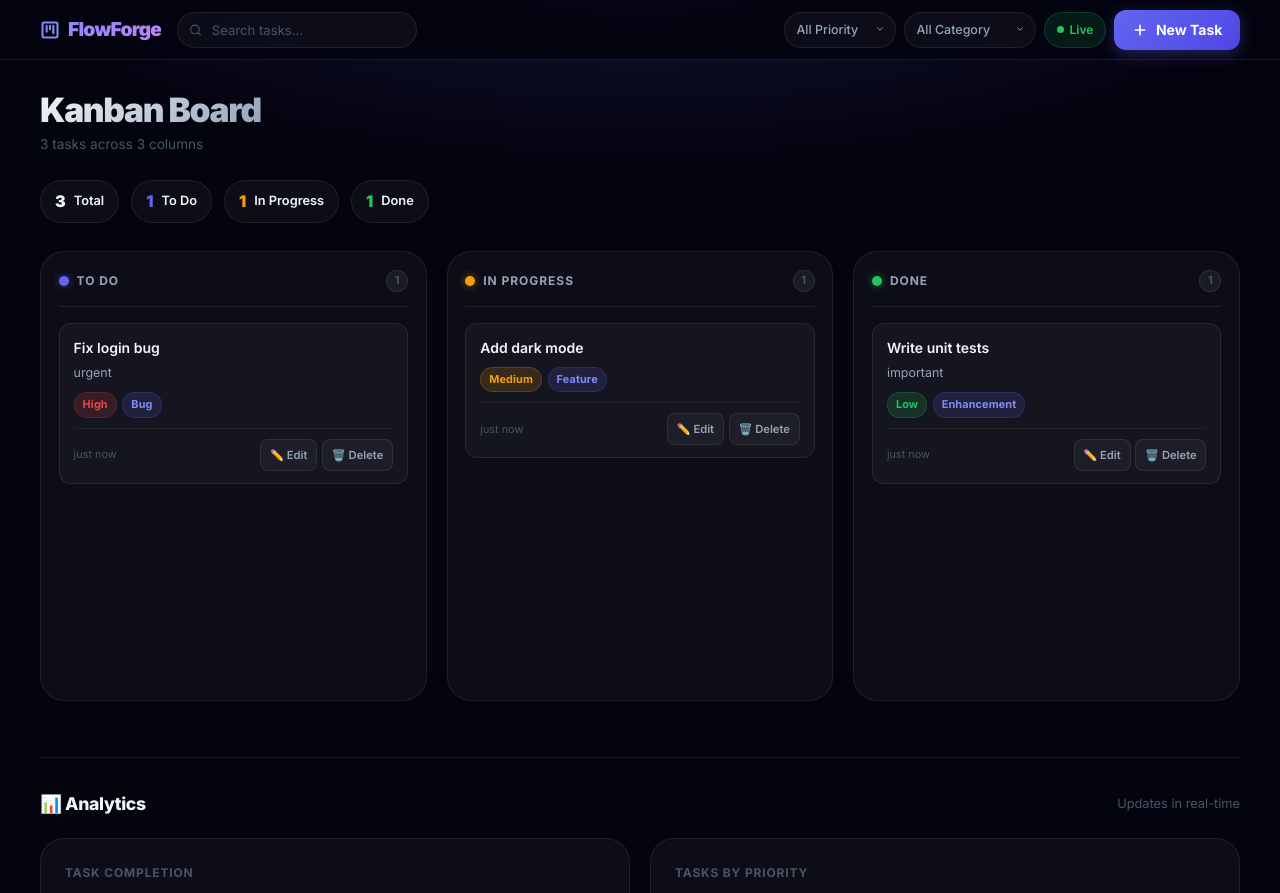
Test: KanbanBoard › closes modal when Cancel is clicked
Click the button with test id "new-task-btn" at (1177, 30), box x1=1114 y1=10 x2=1240 y2=50
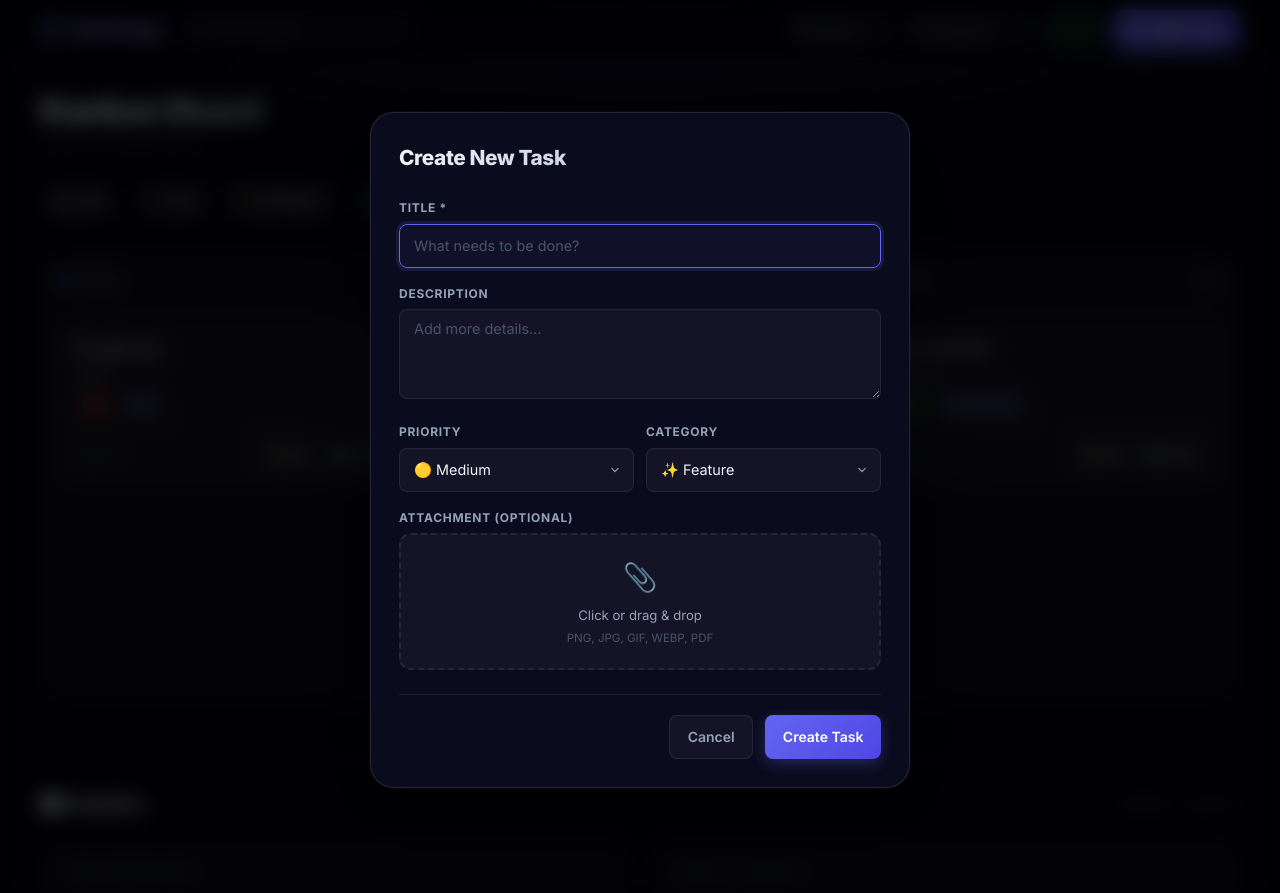
Click the button with test id "cancel-btn" at (711, 737), box x1=669 y1=715 x2=753 y2=759
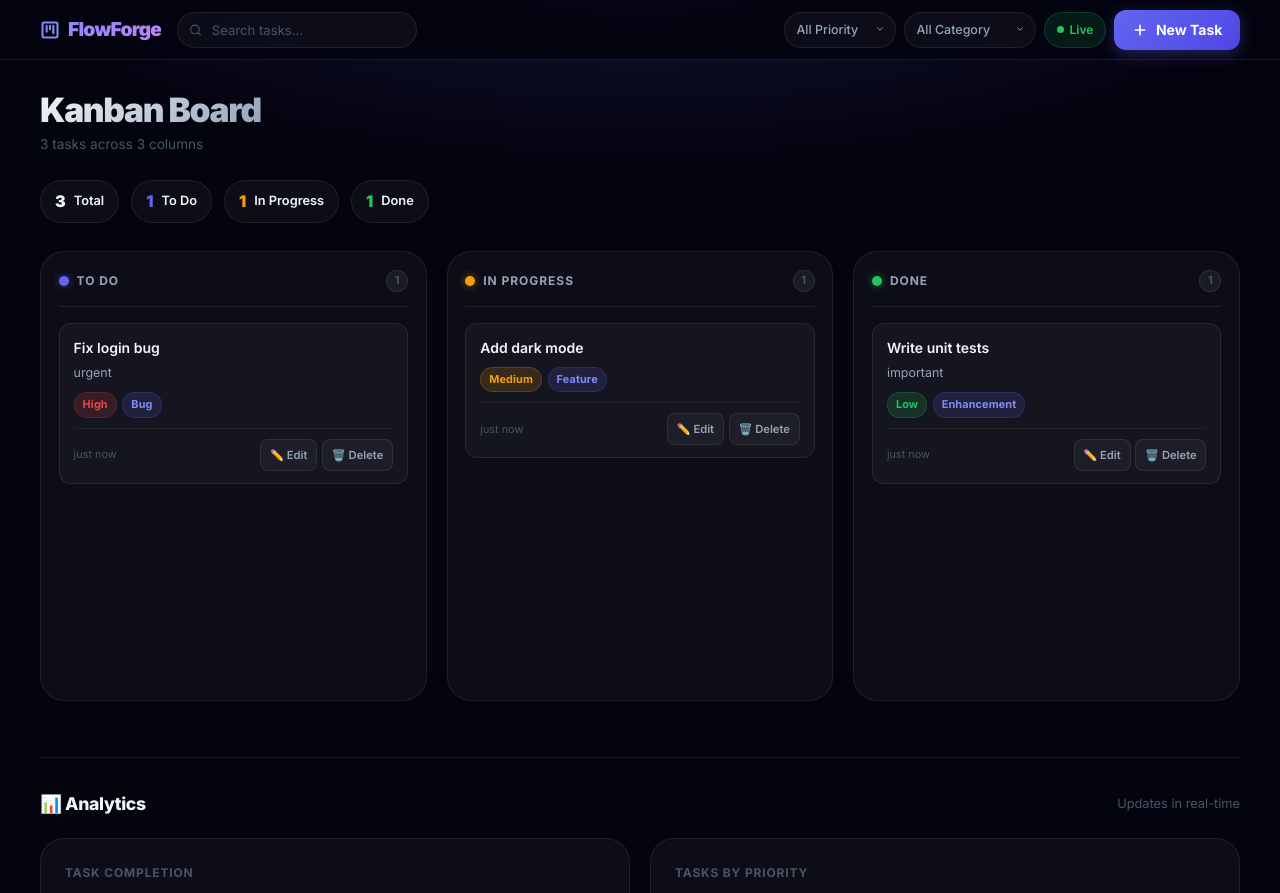
Result: the form with test id "task-form" is gone
